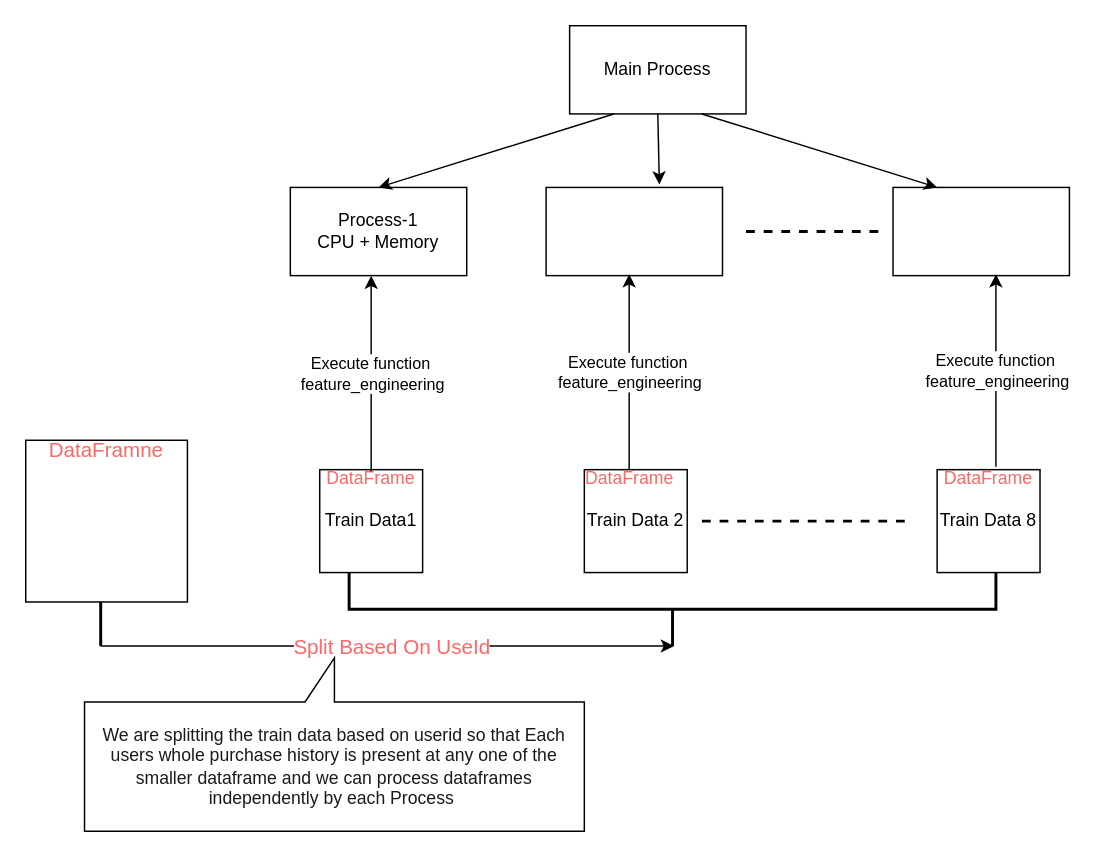
The diagram is 1095 pixels wide and 857 high, and some of its shapes have lost their labels. The box of each missing label's shape, as (x1, y1, x2, y2) in pixels:
Process-2 CPU + Memory: (545, 186, 723, 276)
Process-8 CPU + Memory: (892, 186, 1069, 276)
Train Data: (24, 439, 187, 602)
